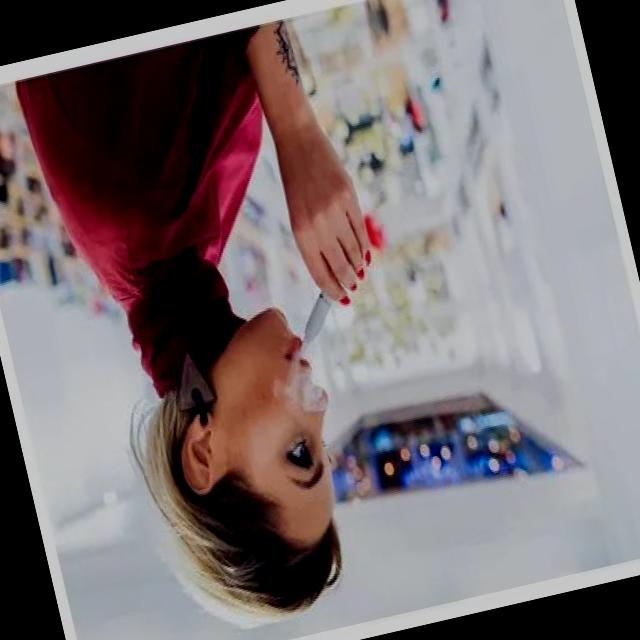cigarette: (280, 278, 348, 364)
